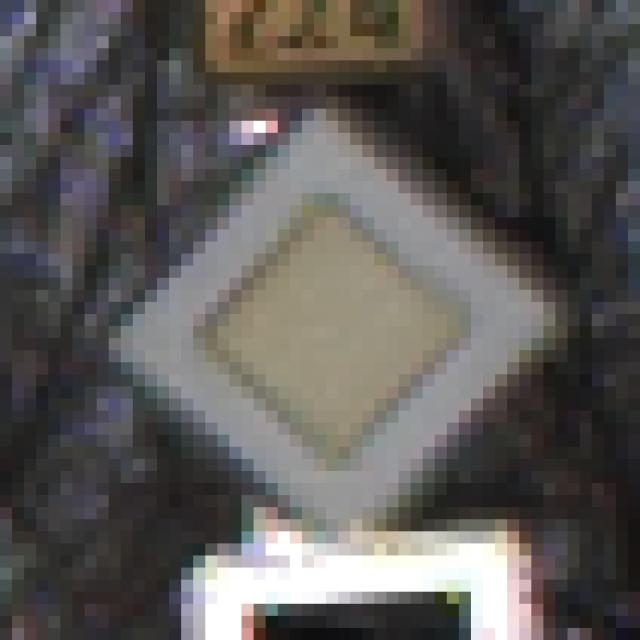Main Road: (74, 74, 581, 581)
